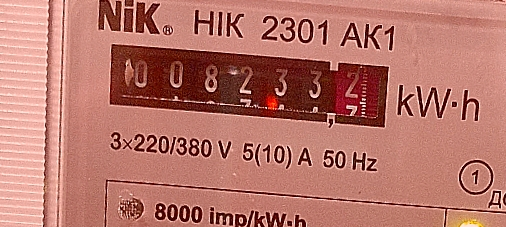0: (129, 56, 152, 90), (165, 58, 186, 90)
2: (234, 63, 256, 97), (342, 68, 362, 100)
3: (270, 66, 290, 98), (306, 67, 325, 100)
8: (200, 61, 220, 94)
screen: (95, 32, 401, 137)
